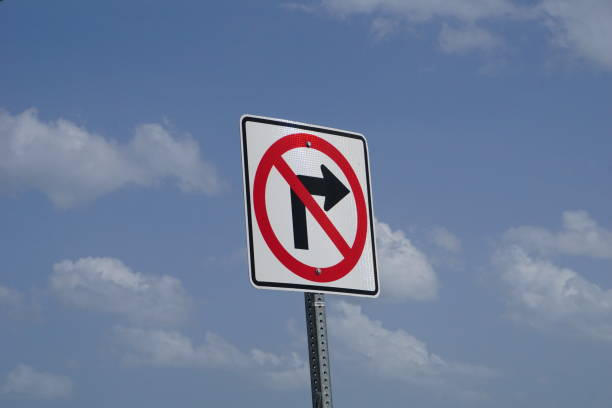saga_donulmez: (251, 127, 370, 289)
